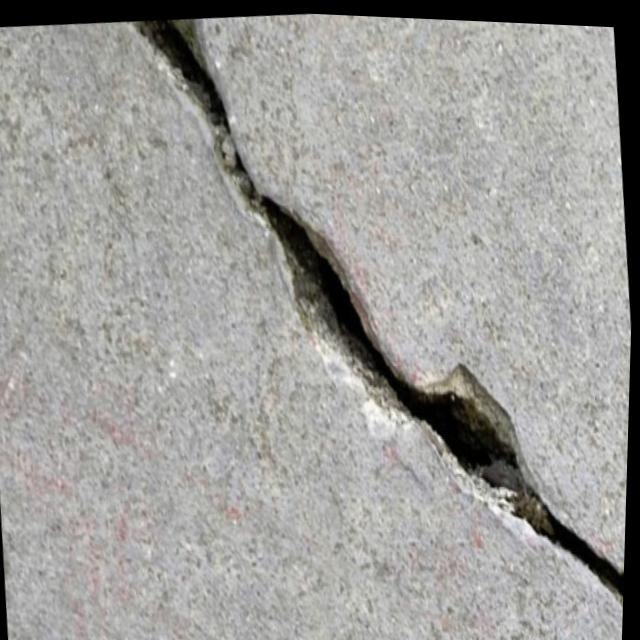Crack: (97, 4, 640, 640)
